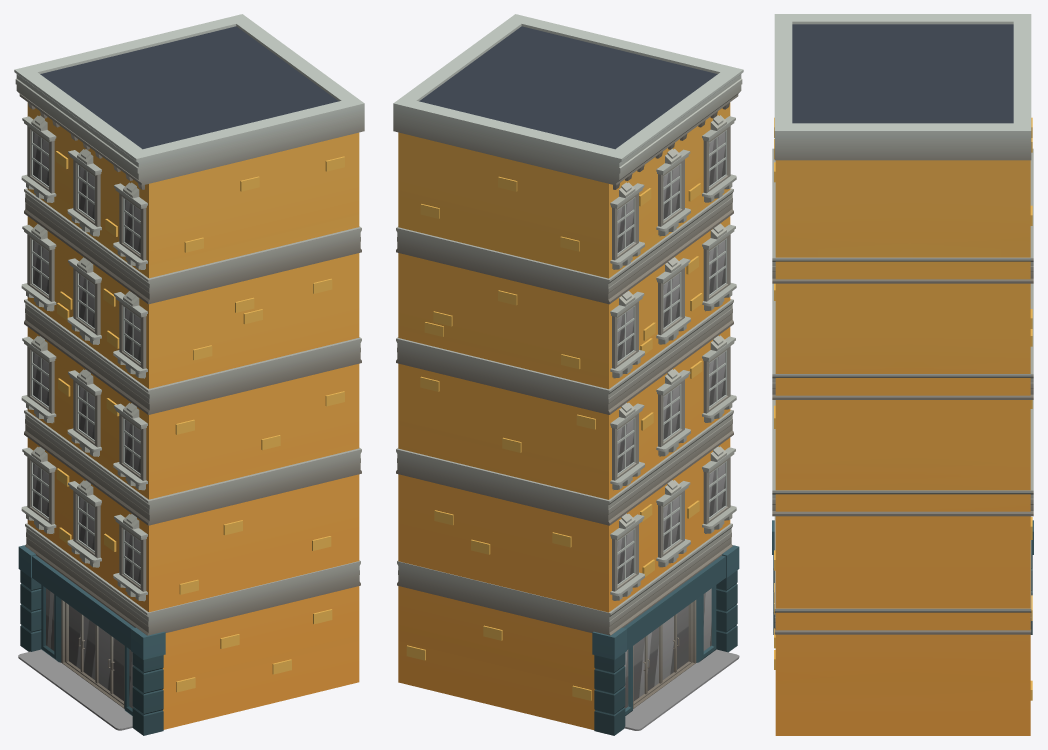
Rendered from Building_21_1_B.glb.
The picture shows the model from 3 angles, left to right: view 1: azimuth 30°, elevation 25°; view 2: azimuth 150°, elevation 25°; view 3: azimuth 270°, elevation 25°; orthographic projection. The views are drawn at different scales.
Parts seen in each view (by area): view 1: Building_21_1_B; view 2: Building_21_1_B; view 3: Building_21_1_B.
Part boxes in pixels (x1=…): Building_21_1_B: x1=14, y1=14, x2=364, y2=735; Building_21_1_B: x1=393, y1=14, x2=743, y2=735; Building_21_1_B: x1=772, y1=14, x2=1033, y2=735.
Size of the model in its own units: 7.79 by 18.25 by 7.13.
3 materials, 3 textured.
